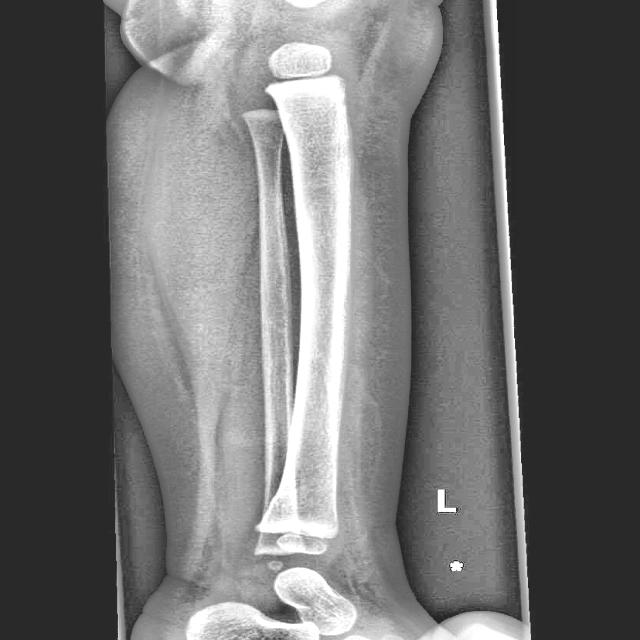line: (269, 482, 309, 505)
